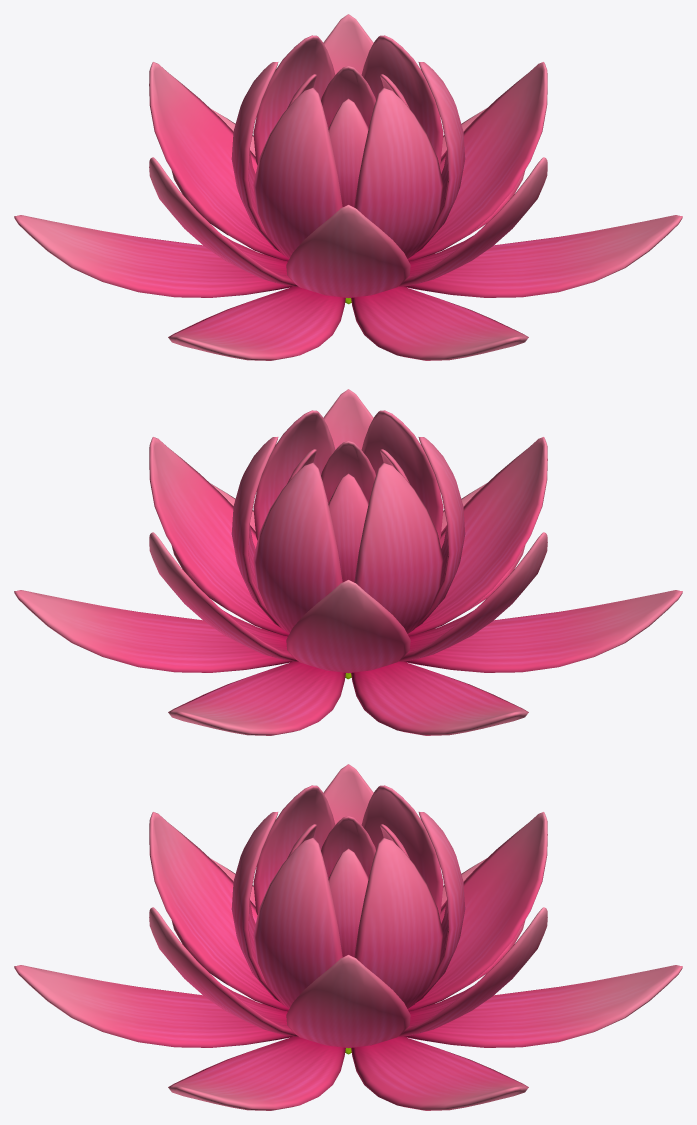
Rendered from lotus_leaf1.fbx.
The picture shows the model from 3 angles, top to bottom: view 1: azimuth 30°, elevation 25°; view 2: azimuth 150°, elevation 25°; view 3: azimuth 270°, elevation 25°; orthographic projection.
Parts seen in each view (by area): view 1: lotus_leaf1; view 2: lotus_leaf1; view 3: lotus_leaf1.
Part boxes in pixels (box(x1,y1,x2,y2)): lotus_leaf1: box(14, 14, 682, 360); lotus_leaf1: box(14, 389, 682, 735); lotus_leaf1: box(14, 764, 682, 1110).
Size of the model in its own units: 592 by 249 by 683.
1 material, 1 textured.
